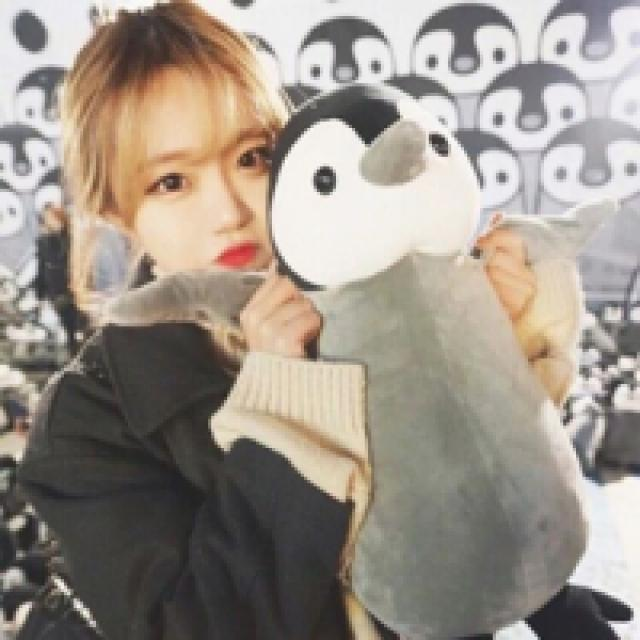nomask: (115, 69, 288, 296)
